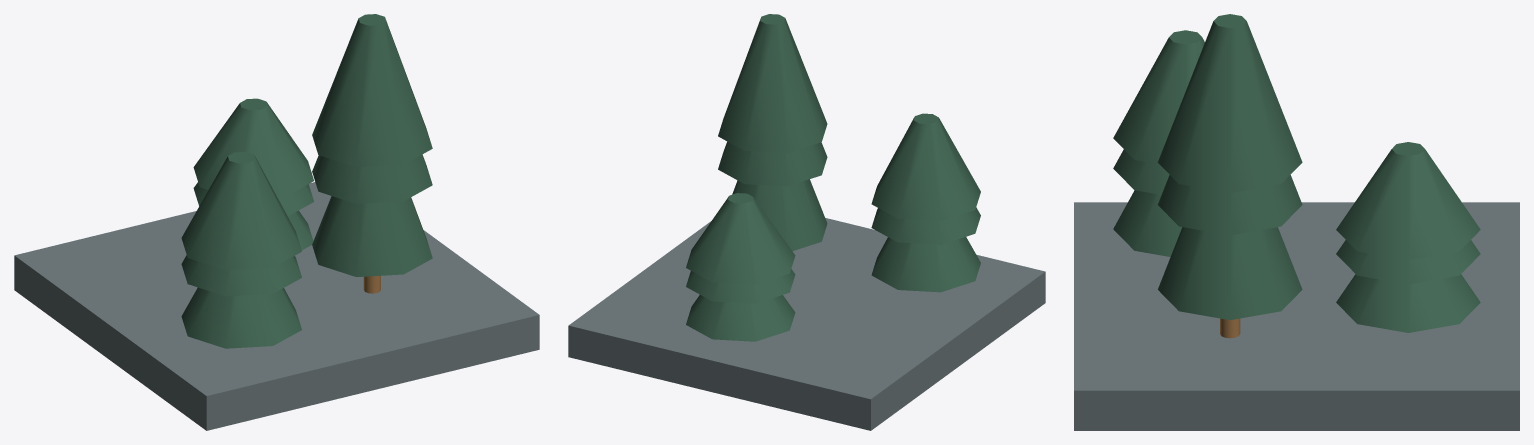
File: garden.lod2.glb
3 views of the same model, side by side, from view 1: azimuth 30°, elevation 25°; view 2: azimuth 150°, elevation 25°; view 3: azimuth 270°, elevation 25° (orthographic). The views are drawn at different scales.
Parts seen in each view (by area): view 1: structure; view 2: structure; view 3: structure.
Part boxes in pixels (box(x1,y1,x2,y2)): structure: box(14, 14, 539, 430); structure: box(568, 14, 1045, 430); structure: box(1074, 14, 1519, 430).
Bounding box in the file's own units: 4 × 3.5 × 4.
